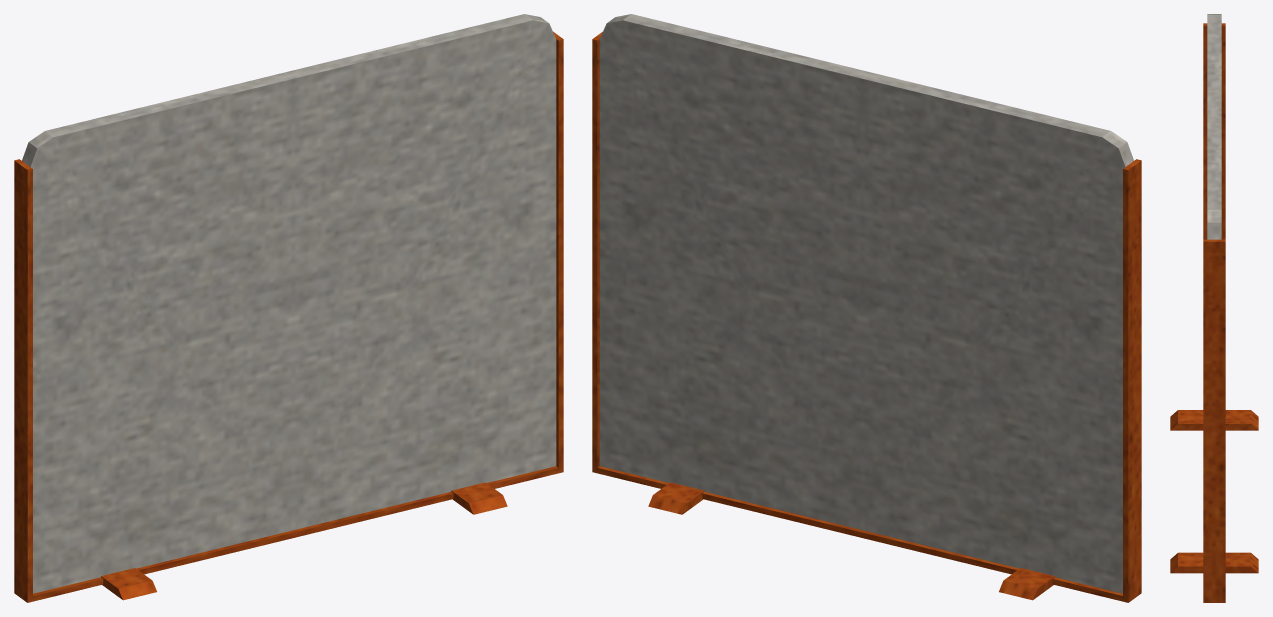
The model's file is divider_veneer.obj.
3 views of the same model, side by side, from view 1: azimuth 30°, elevation 25°; view 2: azimuth 150°, elevation 25°; view 3: azimuth 270°, elevation 25° (orthographic). The views are drawn at different scales.
Parts seen in each view (by area): view 1: divider_veneer; view 2: divider_veneer; view 3: divider_veneer.
Part boxes in pixels (x1,y1,x2,y2): divider_veneer: (14,14,563,602); divider_veneer: (592,14,1141,602); divider_veneer: (1170,14,1258,602).
Size of the model in its own units: 3.06 by 2.5 by 0.523.
